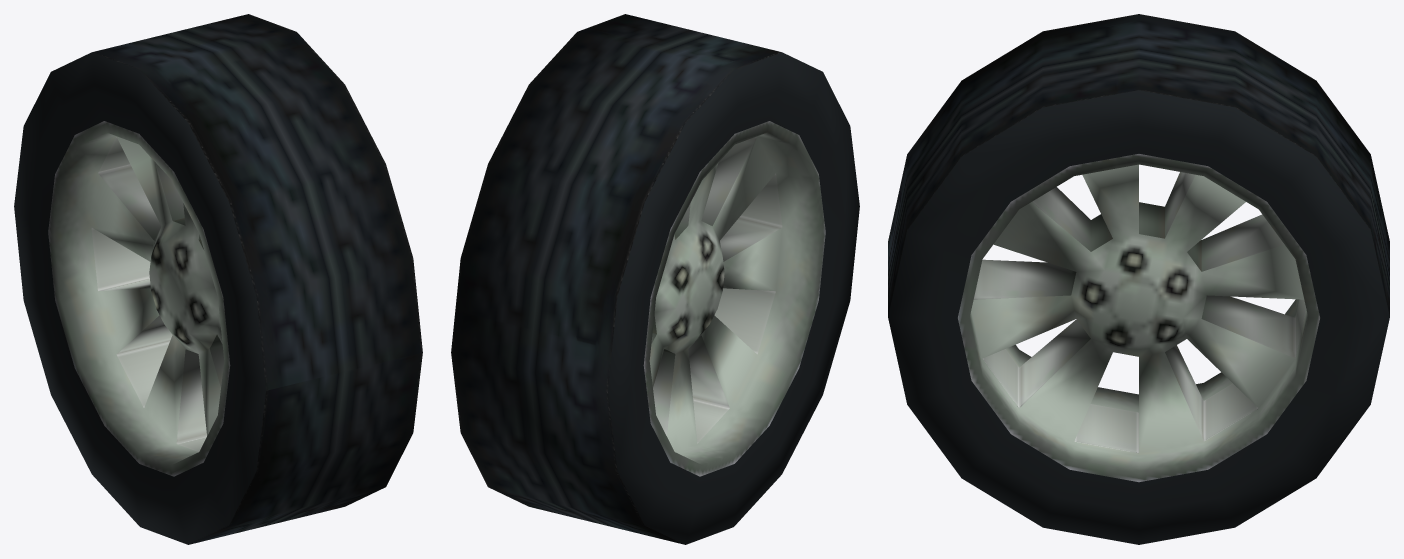
The model's file is vanq_wheel.obj.
3 renders of one model, left to right at view 1: azimuth 30°, elevation 25°; view 2: azimuth 150°, elevation 25°; view 3: azimuth 270°, elevation 25°, orthographic.
Parts seen in each view (by area): view 1: Cylinder_Cylinder.005; view 2: Cylinder_Cylinder.005; view 3: Cylinder_Cylinder.005.
Boxes of the visible parts, <box> form: Cylinder_Cylinder.005: <box>14,14,422,544</box>; Cylinder_Cylinder.005: <box>451,14,859,544</box>; Cylinder_Cylinder.005: <box>888,14,1389,544</box>.
Size of the model in its own units: 0.7576 by 2 by 2.
1 material, 1 textured.
